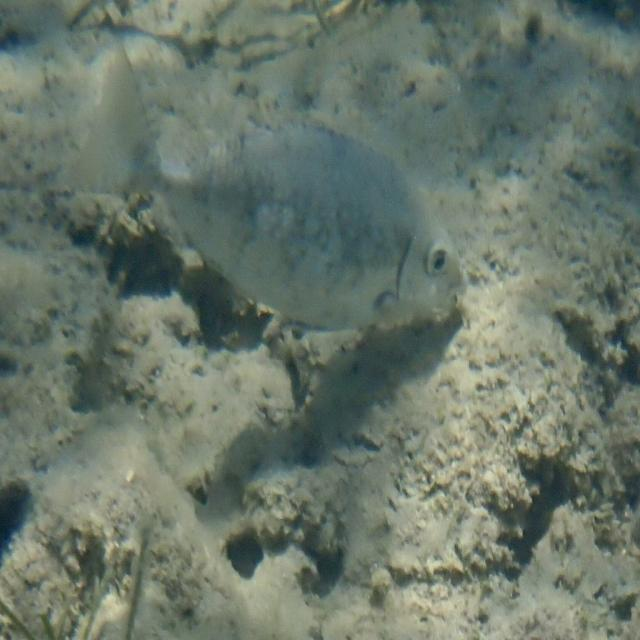Sokar Baligi: (78, 32, 480, 373)
